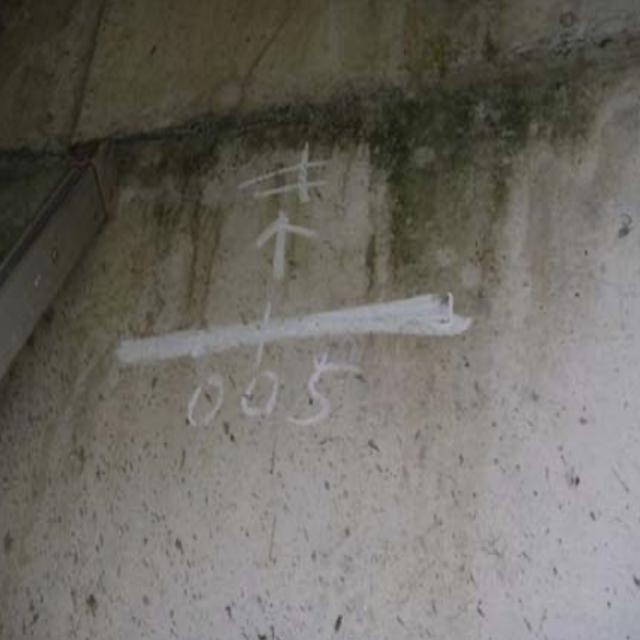freelime: (133, 83, 618, 158)
